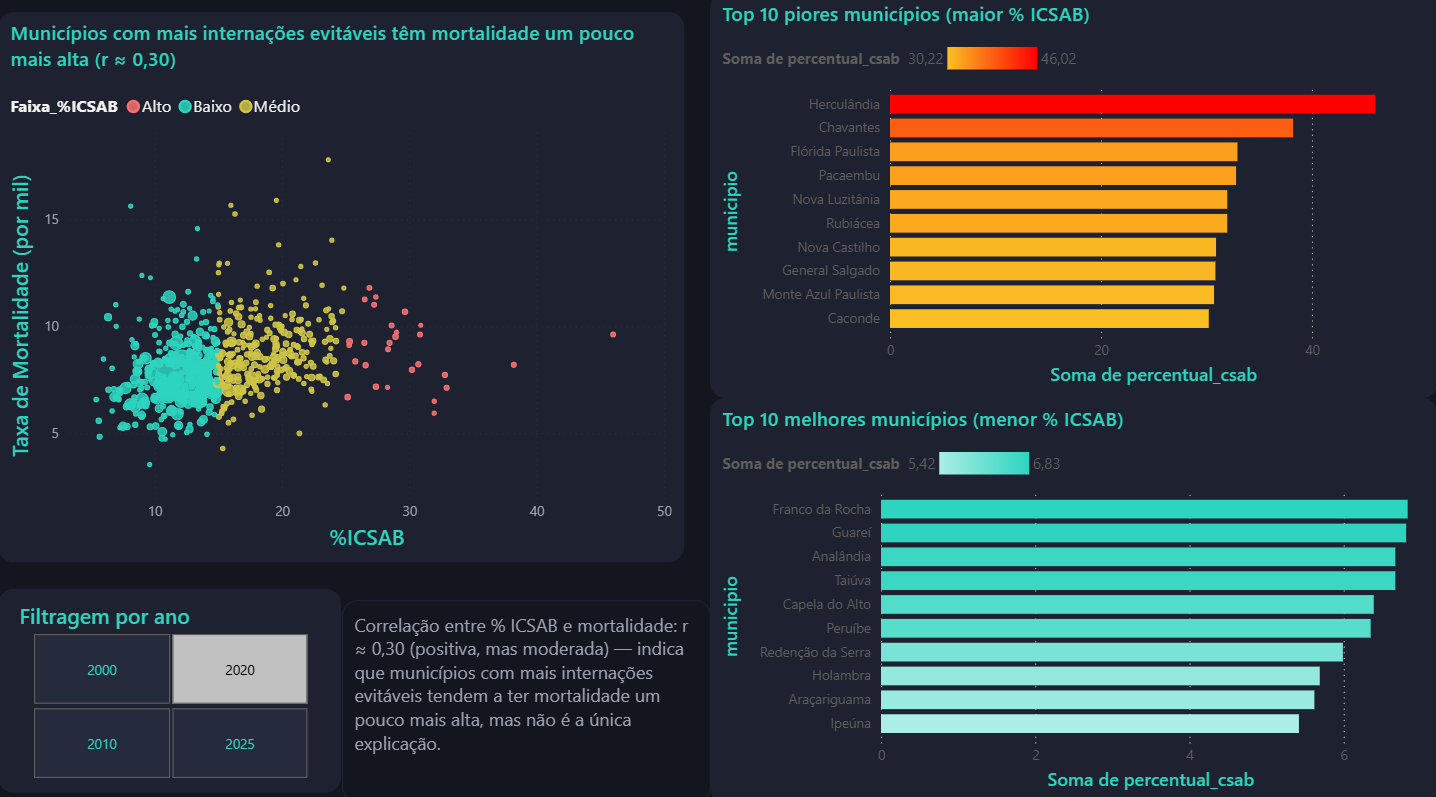

This screenshot's page, from the dashboard's own definition file:
{"tool":"powerbi","page":{"name":"Correlação","canvas":[1280,720],"ordinal":2},"visuals":[{"type":"slicer","title":"Filtragem por ano","fields":{"Values":["dataset_final_projeto_saude_sp_BR_1.ano"]},"box":[0,530.1,305.4,180.9],"z":0},{"type":"scatterChart","title":"Municípios com mais internações evitáveis têm mortalidade um pouco mais alta (r ≈ 0,30)","fields":{"X":["Sum(dataset_final_projeto_saude_sp_BR_1.percentual_csab)"],"Y":["Sum(dataset_final_projeto_saude_sp_BR_1.taxa_mortalidade_por_mil)"],"Size":["Sum(dataset_final_projeto_saude_sp_BR_1.populacao)"],"Category":["dataset_final_projeto_saude_sp_BR_1.municipio"],"Series":["dataset_final_projeto_saude_sp_BR_1.Faixa_%ICSAB"]},"box":[0,16.5,609.8,489.2],"z":1000},{"type":"textbox","box":[305.4,539.8,327.8,179.9],"z":2000},{"type":"clusteredBarChart","title":"Top 10 piores municípios (maior % ICSAB)","fields":{"Category":["dataset_final_projeto_saude_sp_BR_1.municipio"],"Y":["Sum(dataset_final_projeto_saude_sp_BR_1.percentual_csab)"]},"box":[633.2,0,646.8,359.9],"z":3000},{"type":"clusteredBarChart","title":" Top 10 melhores municípios (menor % ICSAB)","fields":{"Category":["dataset_final_projeto_saude_sp_BR_1.municipio"],"Y":["Sum(dataset_final_projeto_saude_sp_BR_1.percentual_csab)"]},"box":[633.2,359.9,646.8,359.9],"z":4000}]}

Visuals, with their boxes in screenshot pixels (x1, y1, x2, y2), scaled from the page's 1280x720 canvas onto the 1436x797 screenshot:
"Filtragem por ano" slicer: [0, 587, 343, 787]
"Municípios com mais internações evitáveis têm mortalidade um pouco mais alta (r ≈ 0,30)" scatterChart: [0, 18, 684, 560]
textbox: [343, 598, 710, 796]
"Top 10 piores municípios (maior % ICSAB)" clusteredBarChart: [710, 0, 1435, 398]
" Top 10 melhores municípios (menor % ICSAB)" clusteredBarChart: [710, 398, 1435, 796]
